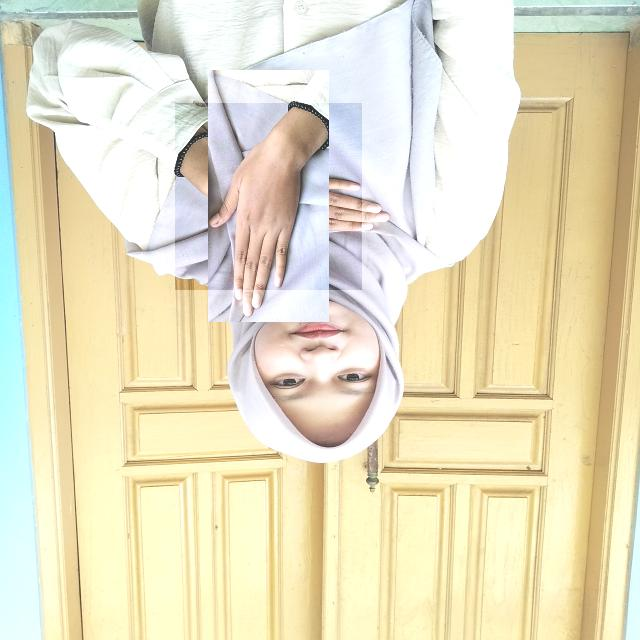tolong: (175, 103, 362, 290)
